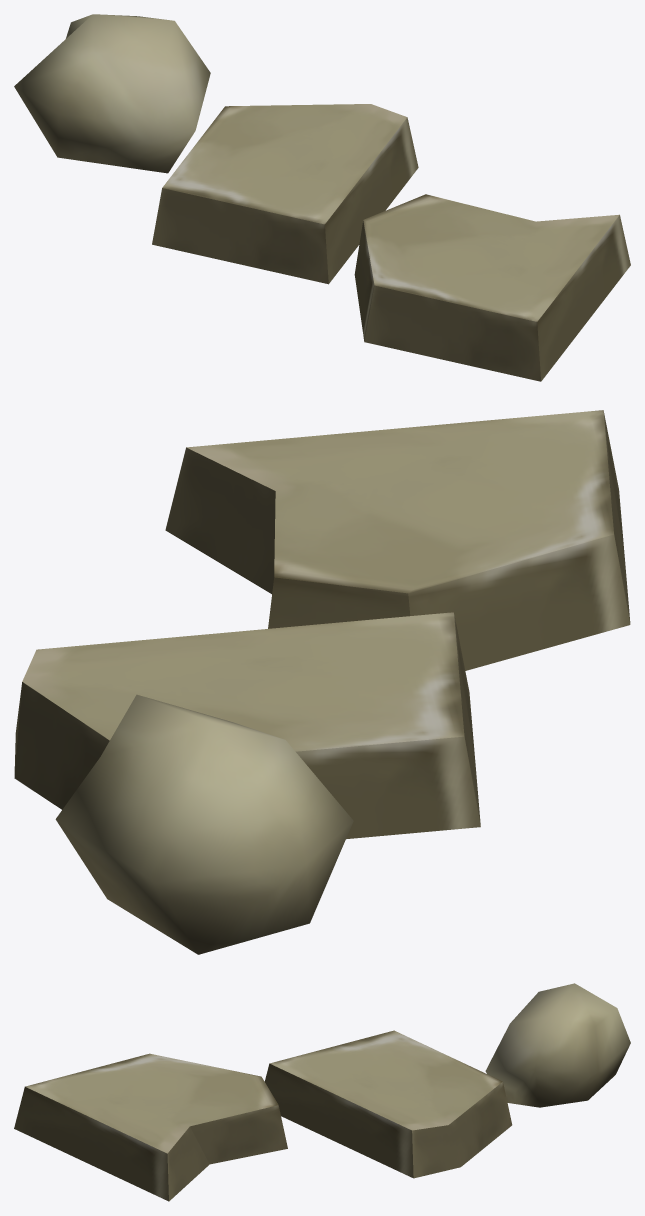
Rendered from xiaoshitou.fbx.
The picture shows the model from 3 angles, top to bottom: view 1: azimuth 30°, elevation 25°; view 2: azimuth 150°, elevation 25°; view 3: azimuth 270°, elevation 25°; orthographic projection. The views are drawn at different scales.
Parts seen in each view (by area): view 1: xiaoshitou_03, xiaoshitou_02, xiaoshitou_01; view 2: xiaoshitou_03, xiaoshitou_02, xiaoshitou_01; view 3: xiaoshitou_03, xiaoshitou_02, xiaoshitou_01.
Boxes of the visible parts, x1,y1,x2,y2 form: xiaoshitou_03: (354,194,630,381); xiaoshitou_02: (152,104,418,284); xiaoshitou_01: (14,14,210,173); xiaoshitou_03: (165,410,630,670); xiaoshitou_02: (14,612,480,839); xiaoshitou_01: (55,694,353,954); xiaoshitou_03: (14,1053,287,1201); xiaoshitou_02: (264,1030,512,1178); xiaoshitou_01: (485,983,630,1107).
Size of the model in its own units: 98.56 by 35.93 by 187.
Materials: 1 (1 with a texture image).
